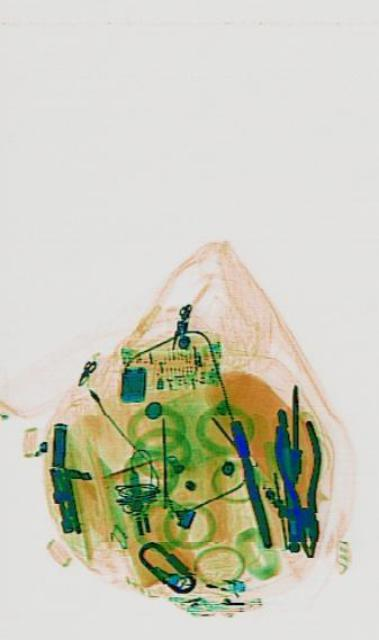Pliers: (269, 413, 331, 562)
